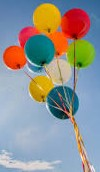Balloon: (47, 86, 79, 119), (24, 35, 54, 66), (61, 9, 90, 39), (33, 3, 61, 32), (67, 41, 95, 69), (47, 59, 71, 85), (29, 76, 53, 102), (3, 46, 28, 69)
